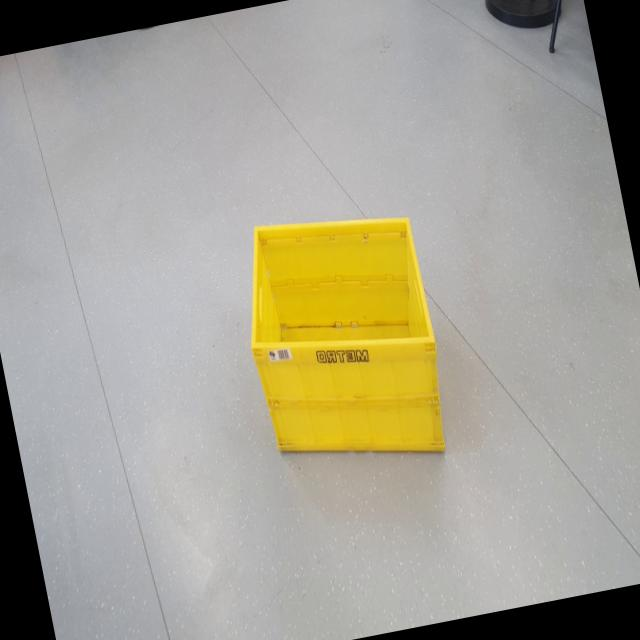box: (222, 180, 464, 498)
